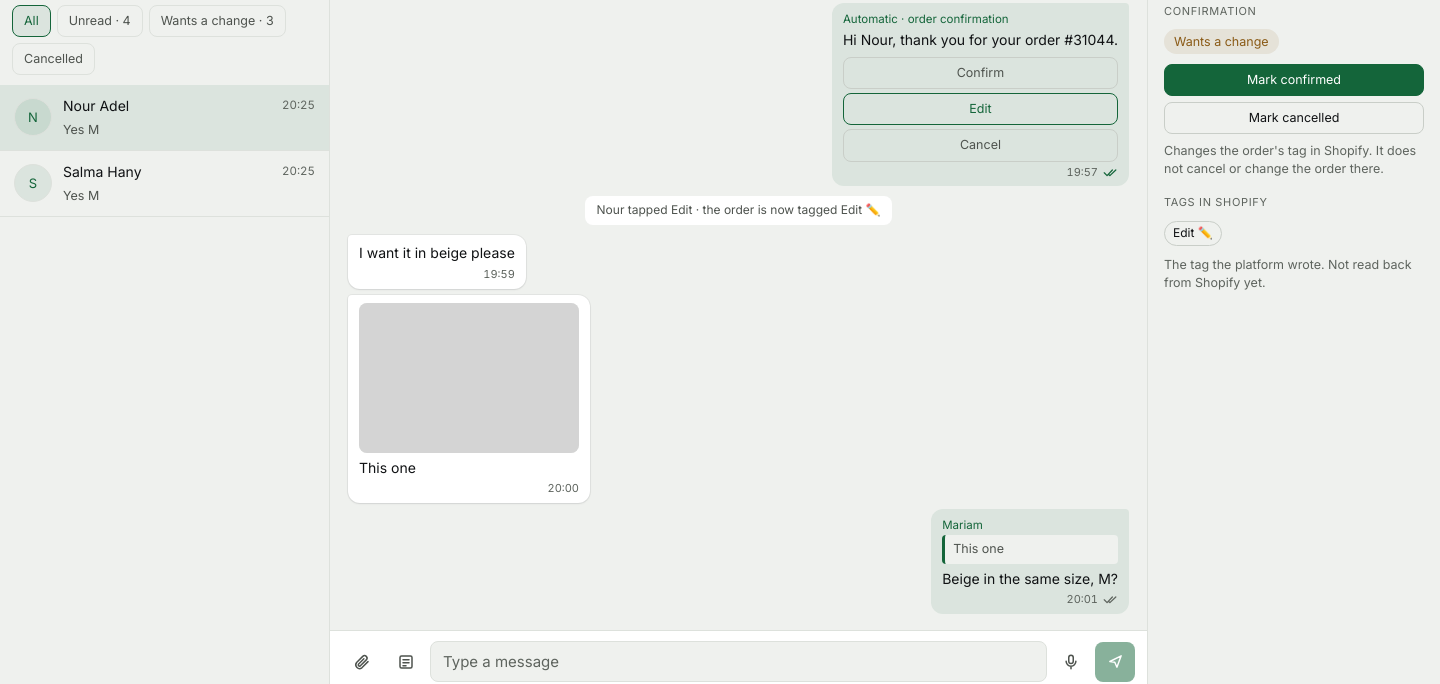
an open chat › offers the approved messages from the box too, while she can still be written to
Expected: the button "We tried to reach you" is not shown
Click the button named "Send an approved message" at point(406, 662), box [386, 642, 426, 682]
(page scrolled)
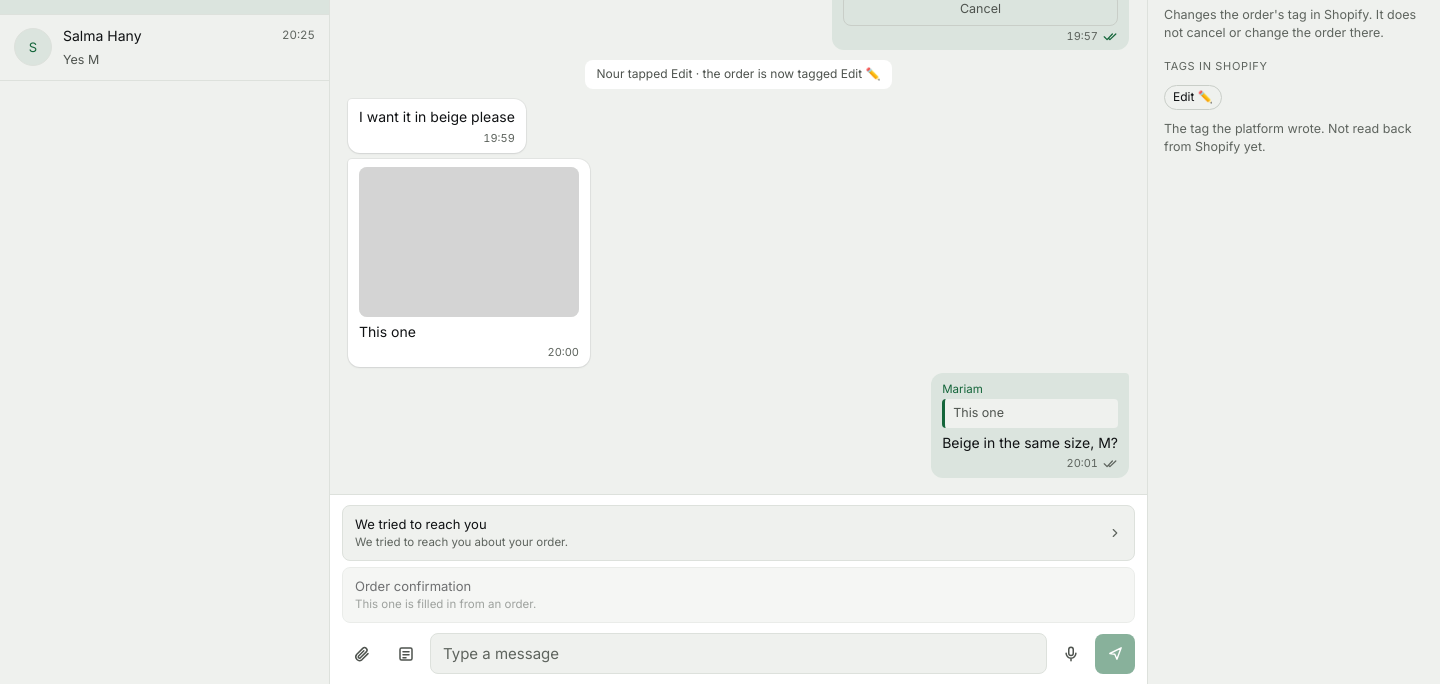
Expected: the button "We tried to reach you" is shown, [342, 505, 1135, 561]
Expected: the button named "Send an approved message" is expanded, [386, 634, 426, 674]
